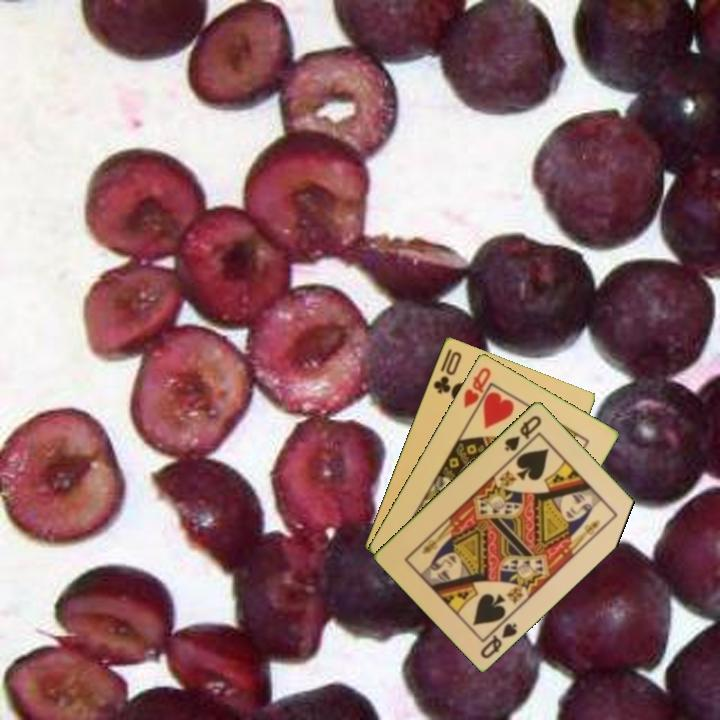10c: (430, 347, 464, 396)
Qh: (460, 363, 494, 411)
Qs: (501, 411, 544, 454), (477, 619, 520, 661)
